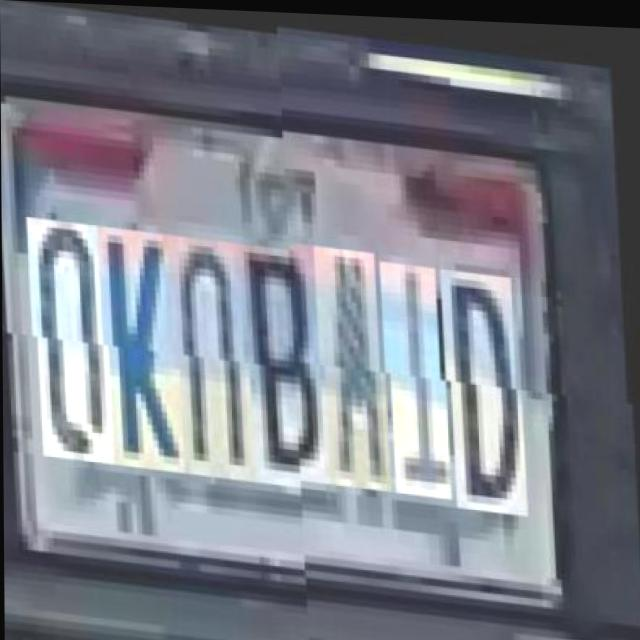0: (34, 209, 115, 454)
b: (247, 229, 332, 475)
d: (449, 257, 530, 501)
k: (104, 216, 185, 460)
t: (389, 251, 453, 487)
u: (176, 223, 257, 468)
w: (323, 237, 392, 482)
